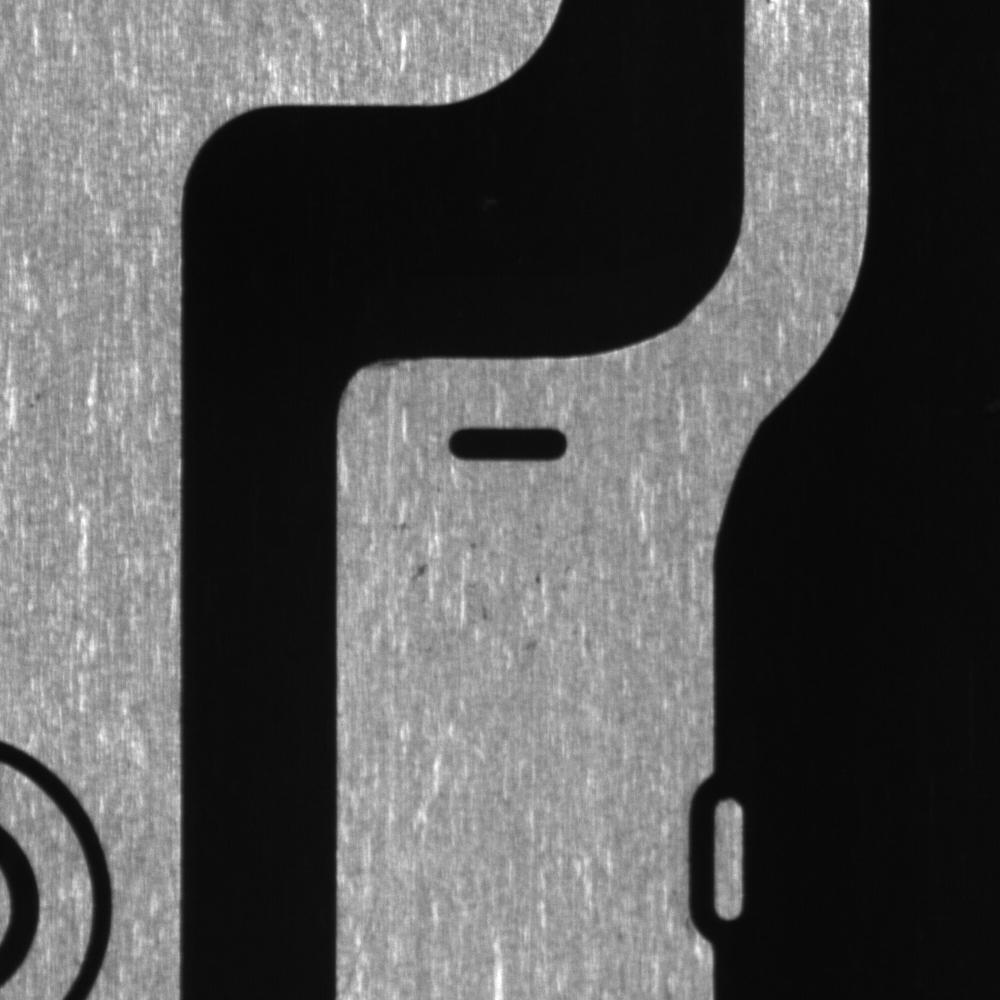Etching: (374, 504, 589, 636)
